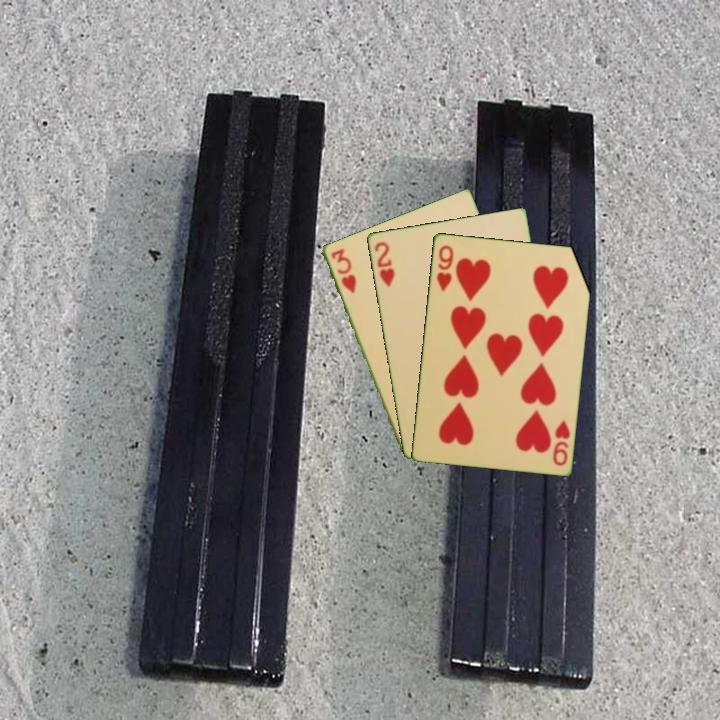2h: (371, 238, 397, 289)
3h: (327, 244, 359, 296)
9h: (549, 416, 573, 469), (433, 241, 456, 294)
